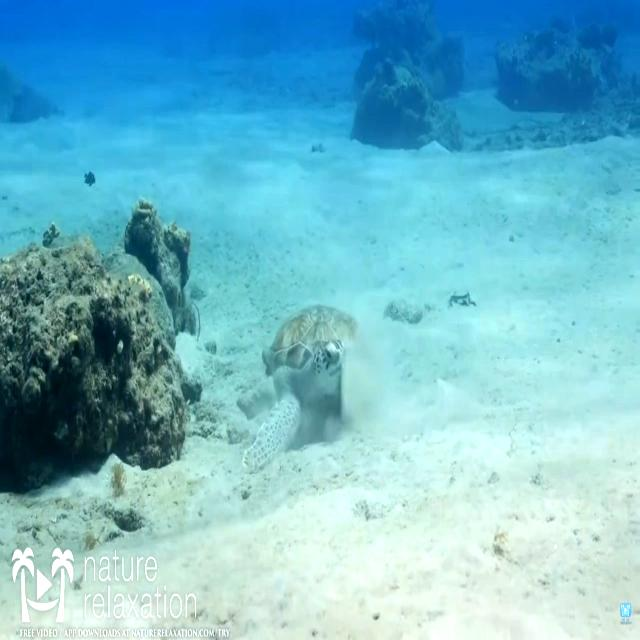Sea turtle: (262, 300, 362, 392)
